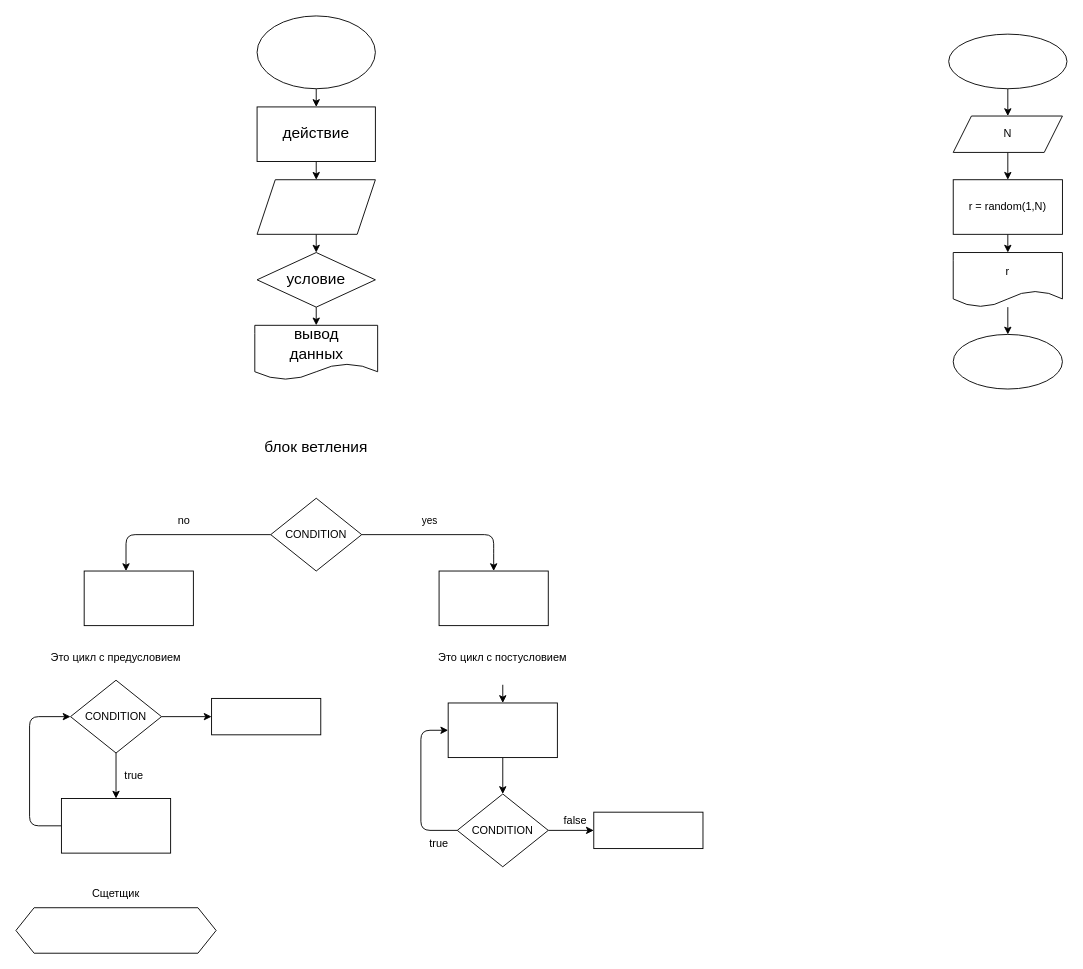
Some shapes in this 1083 by 969 pixel diagram are drawn without their labels. The box of each missing label's shape, as (x1, y1, x2, y2) in pixels:
end: (952, 334, 1062, 389)
start: (948, 33, 1067, 89)
ввод данных: (256, 179, 375, 234)
начало конец алгоритма: (256, 15, 375, 89)
